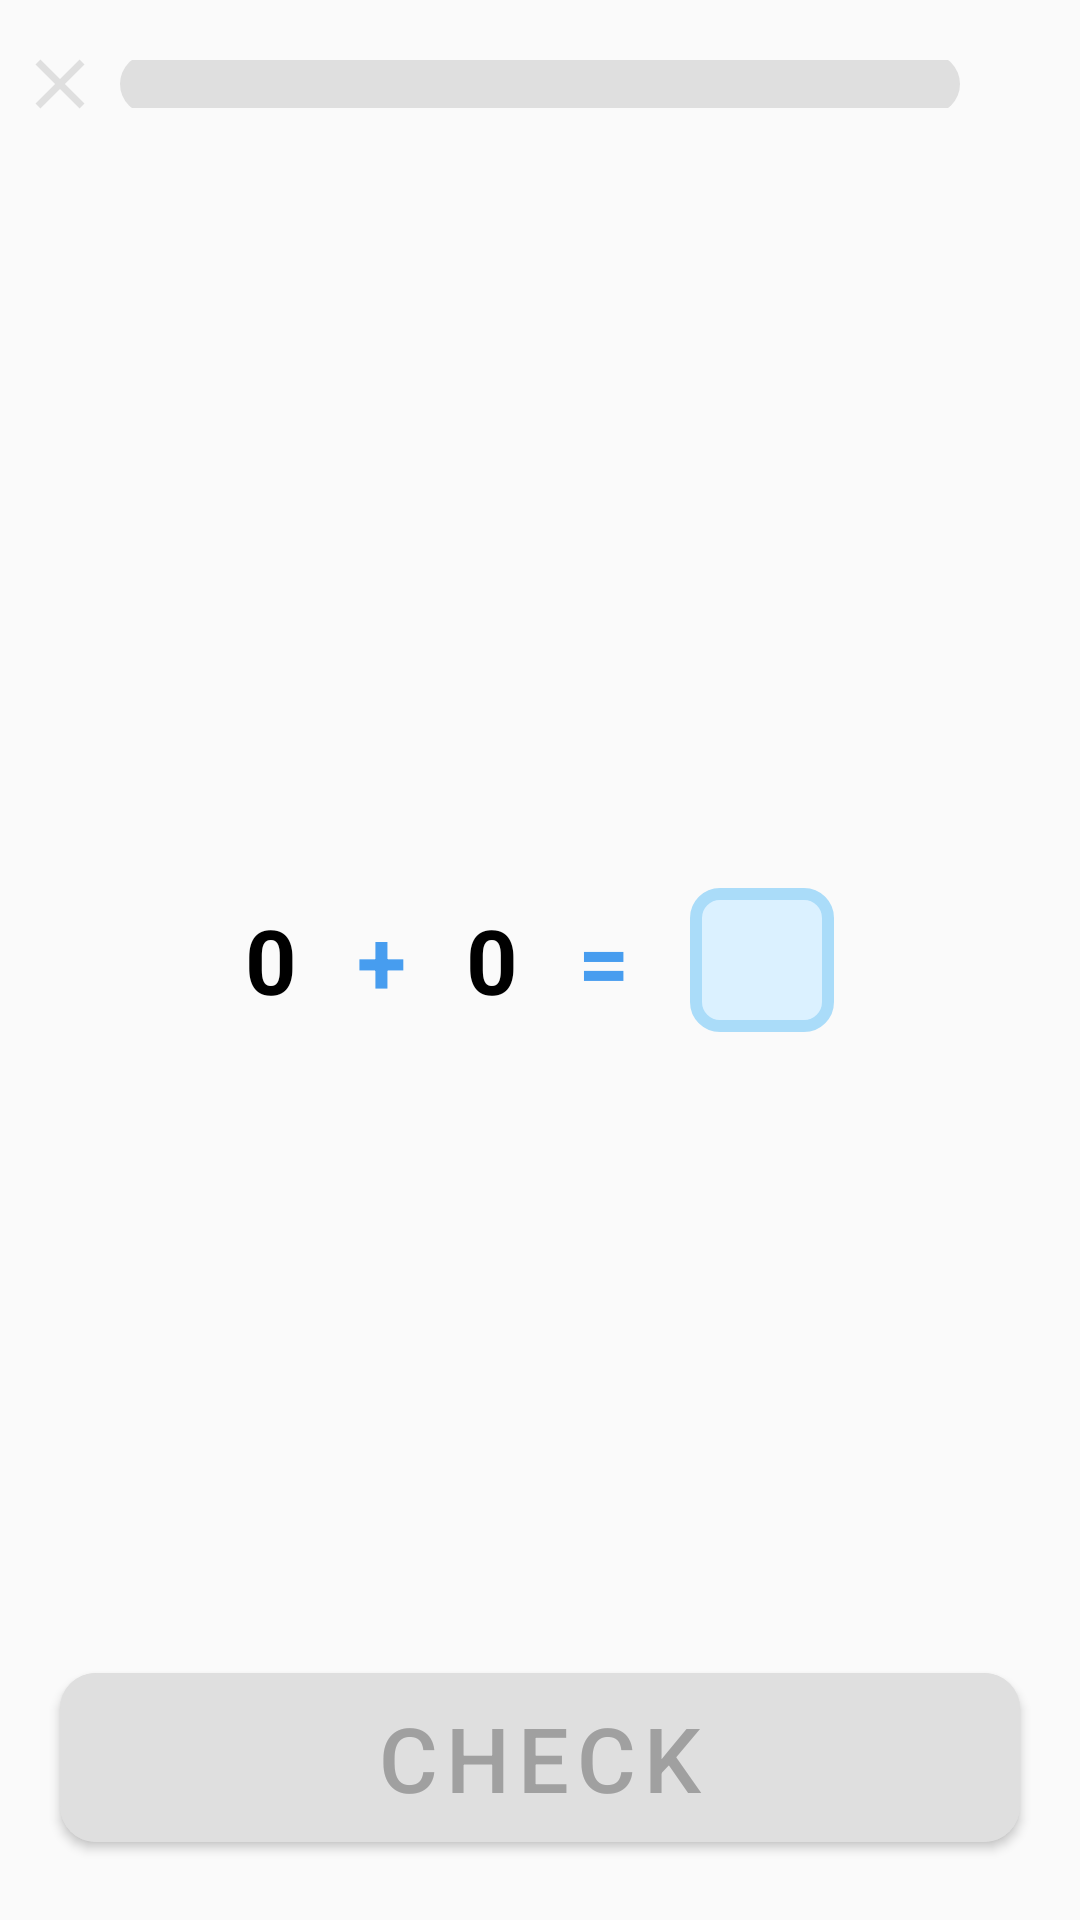

Icons on this 1080 × 1920 Android screen, each with its box as (x1, y1, x2, y2):
close: (36, 60, 84, 108)
